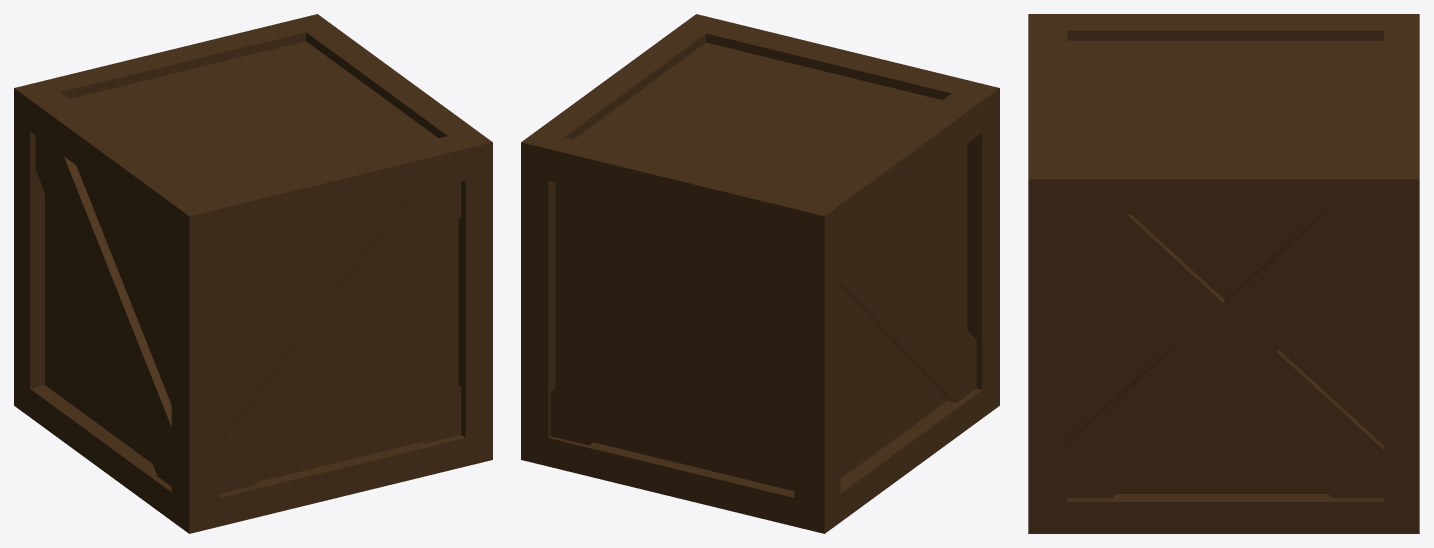
File: Caixa1.fbx
The picture shows the model from 3 angles, left to right: view 1: azimuth 30°, elevation 25°; view 2: azimuth 150°, elevation 25°; view 3: azimuth 270°, elevation 25°; orthographic projection. The views are drawn at different scales.
Parts seen in each view (by area): view 1: pCube8; view 2: pCube8; view 3: pCube8.
Boxes of the visible parts, left/top/right/bottom form: pCube8: left=14, top=14, right=492, bottom=533; pCube8: left=521, top=14, right=999, bottom=533; pCube8: left=1028, top=14, right=1419, bottom=533.
Size of the model in its own units: 4.74 by 4.74 by 4.74.
